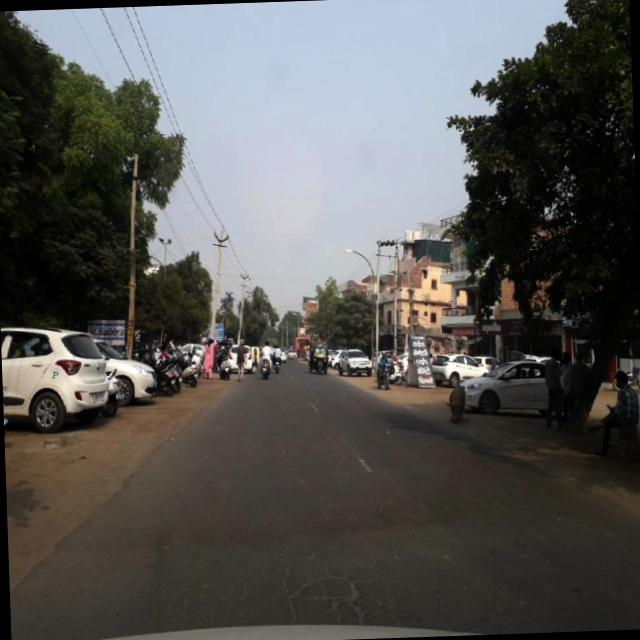crack: (246, 552, 388, 630)
